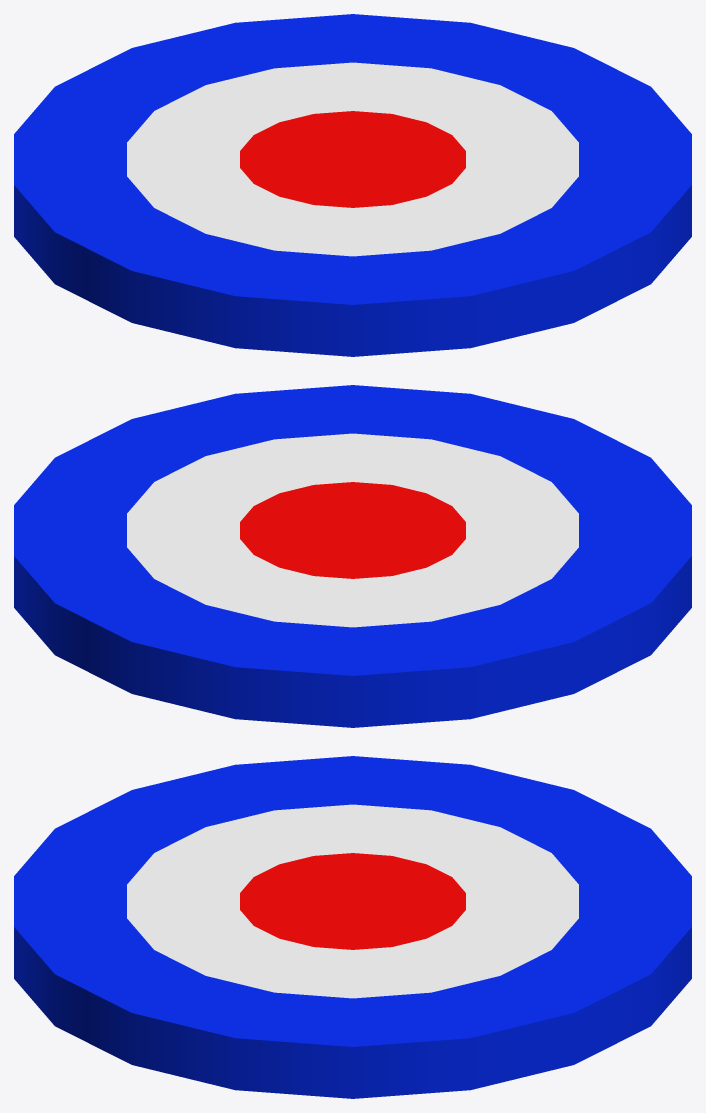
The model's file is Target.FBX.
3 renders of one model, top to bottom at view 1: azimuth 30°, elevation 25°; view 2: azimuth 150°, elevation 25°; view 3: azimuth 270°, elevation 25°, orthographic.
Parts seen in each view (by area): view 1: Out2, Out1, Center; view 2: Out2, Out1, Center; view 3: Out2, Out1, Center.
Boxes of the visible parts, x1=… form: Out2: x1=14, y1=14, x2=691, y2=356; Out1: x1=127, y1=62, x2=578, y2=256; Center: x1=240, y1=111, x2=465, y2=207; Out2: x1=14, y1=385, x2=691, y2=727; Out1: x1=127, y1=433, x2=578, y2=627; Center: x1=240, y1=482, x2=465, y2=578; Out2: x1=14, y1=756, x2=691, y2=1098; Out1: x1=127, y1=804, x2=578, y2=998; Center: x1=240, y1=853, x2=465, y2=949.
Size of the model in its own units: 60 by 5 by 59.09.
